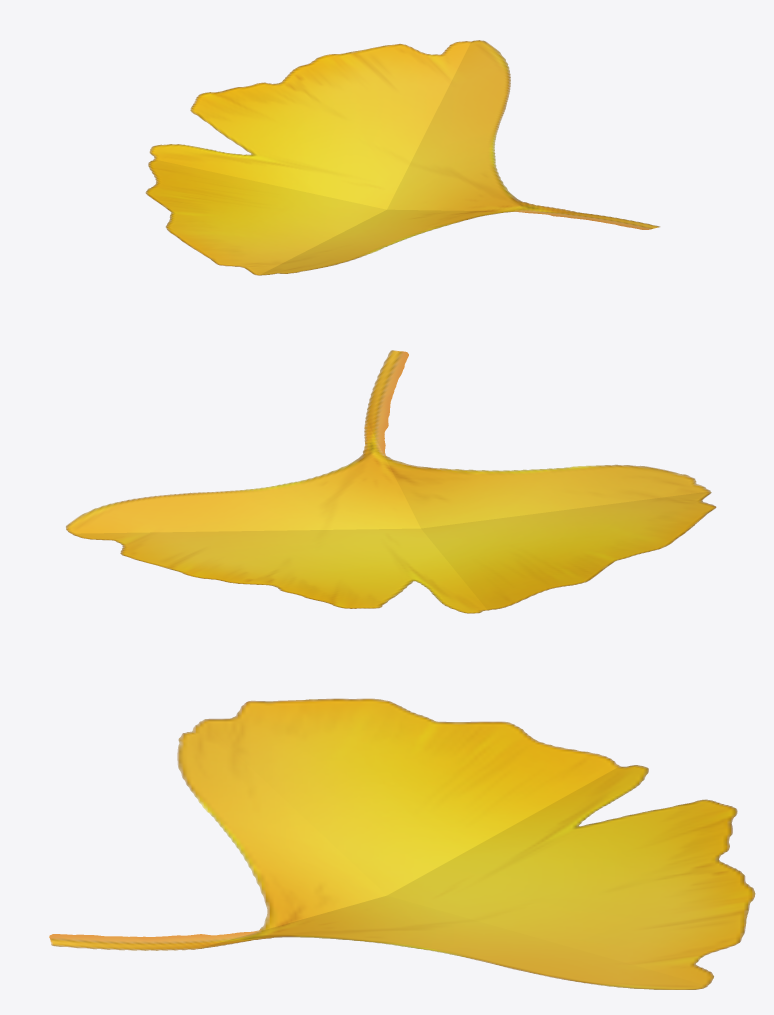
File: FSF_Leaf_01.FBX
The picture shows the model from 3 angles, top to bottom: view 1: azimuth 30°, elevation 25°; view 2: azimuth 150°, elevation 25°; view 3: azimuth 270°, elevation 25°; orthographic projection. The views are drawn at different scales.
Visible parts, largest first — view 1: FSF_Leaf_01; view 2: FSF_Leaf_01; view 3: FSF_Leaf_01.
Part boxes in pixels (x1,y1,x2,y2): FSF_Leaf_01: (145,40,660,275); FSF_Leaf_01: (66,350,716,613); FSF_Leaf_01: (49,698,755,989).
Size of the model in its own units: 11.42 by 0.8711 by 11.53.
